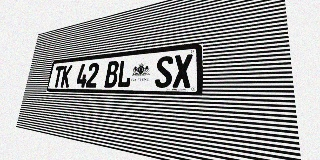2: (86, 62, 100, 87)
4: (76, 63, 89, 87)
B: (104, 60, 119, 88)
K: (60, 65, 73, 87)
L: (117, 59, 133, 88)
S: (155, 55, 173, 88)
T: (52, 66, 64, 87)
X: (172, 54, 193, 88)
